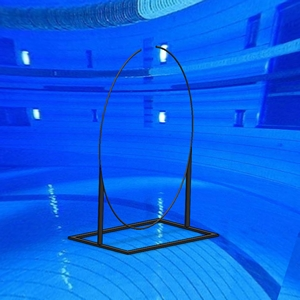circle: (68, 45, 221, 255)
